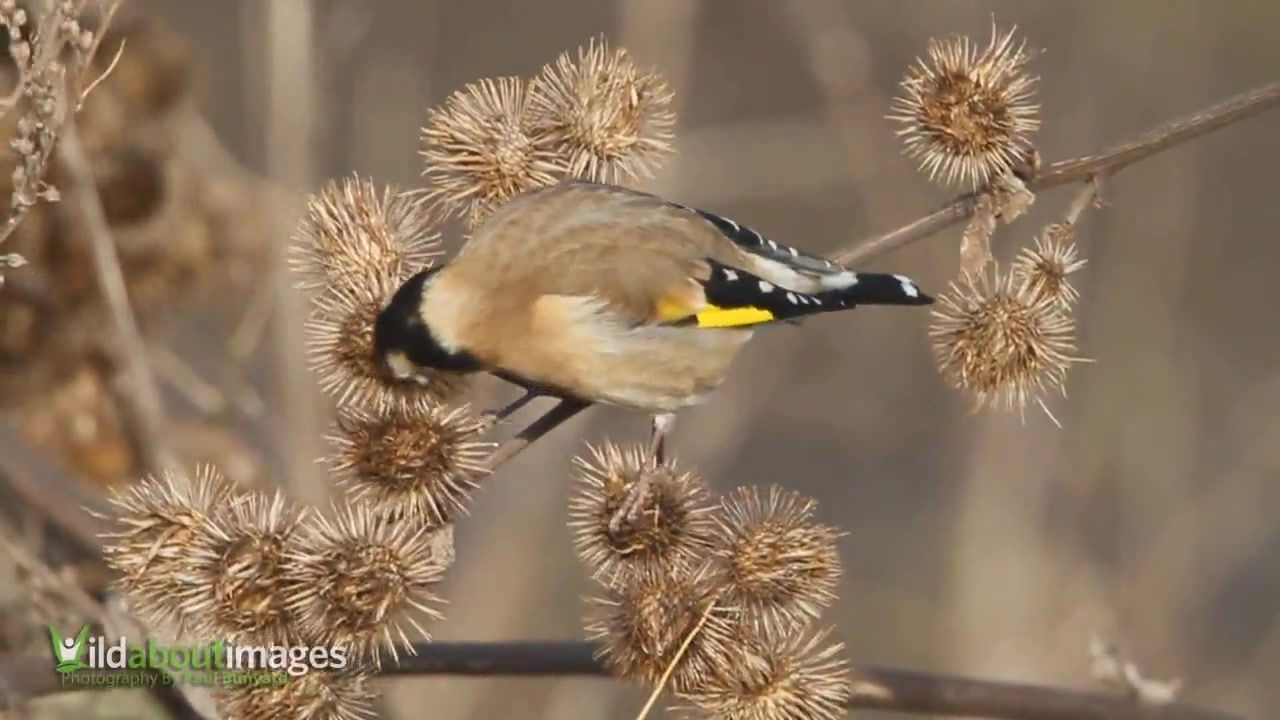bird: (374, 182, 936, 531)
